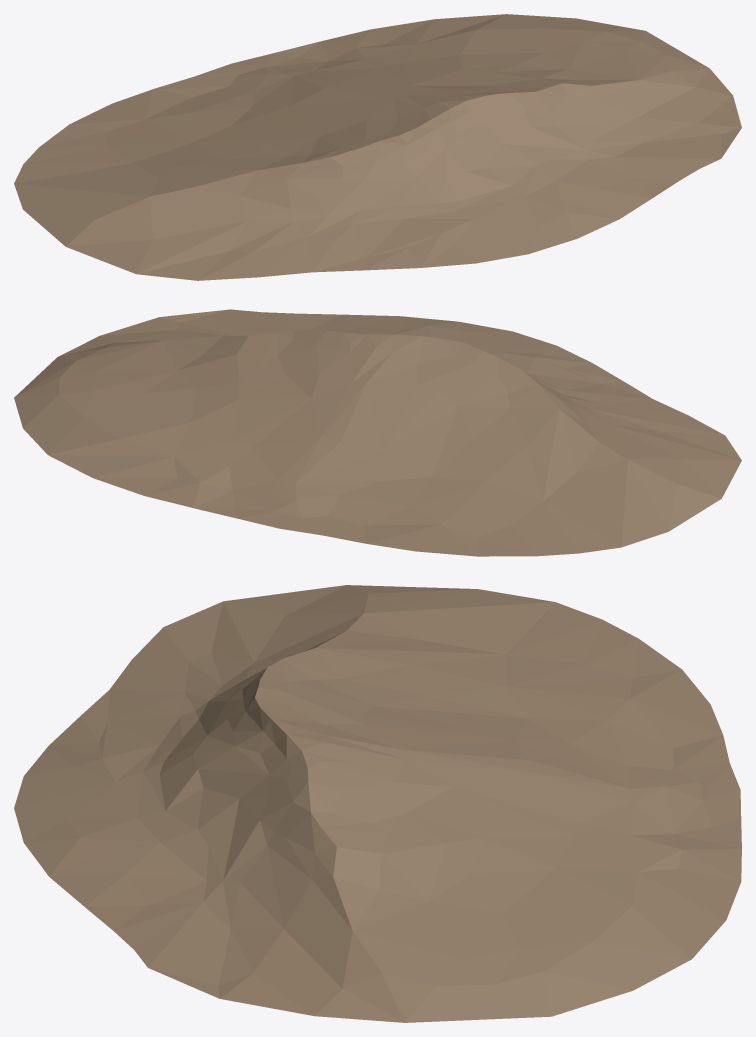
Rendered from SM_Env_SandDunes_02.glb.
3 renders of one model, top to bottom at view 1: azimuth 30°, elevation 25°; view 2: azimuth 150°, elevation 25°; view 3: azimuth 270°, elevation 25°, orthographic. The views are drawn at different scales.
Visible parts, largest first — view 1: SM_Env_SandDunes_02; view 2: SM_Env_SandDunes_02; view 3: SM_Env_SandDunes_02.
Boxes of the visible parts, left/top/right/bottom form: SM_Env_SandDunes_02: left=14, top=14, right=741, bottom=280; SM_Env_SandDunes_02: left=14, top=309, right=741, bottom=556; SM_Env_SandDunes_02: left=14, top=585, right=741, bottom=1022.
Bounding box in the file's own units: 78.07 × 7.42 × 54.84.
1 material, 1 textured.
